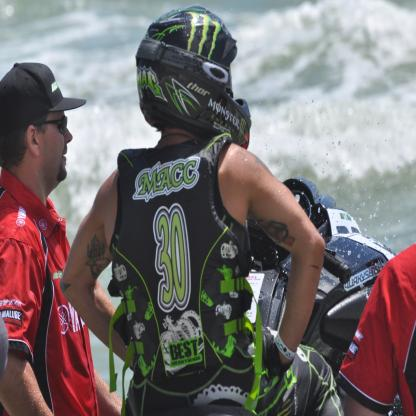Helmet: (129, 7, 244, 152)
